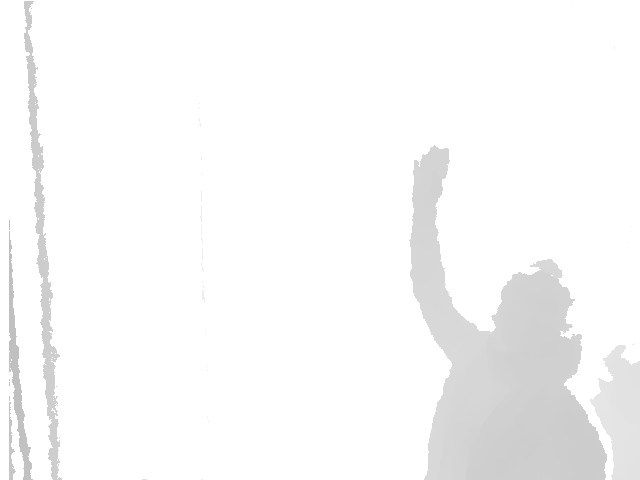hand: (411, 145, 449, 198)
head: (493, 257, 572, 354)
person: (408, 145, 608, 480)
